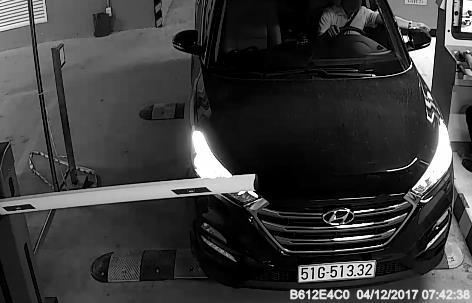License-plate: (292, 254, 385, 291)
